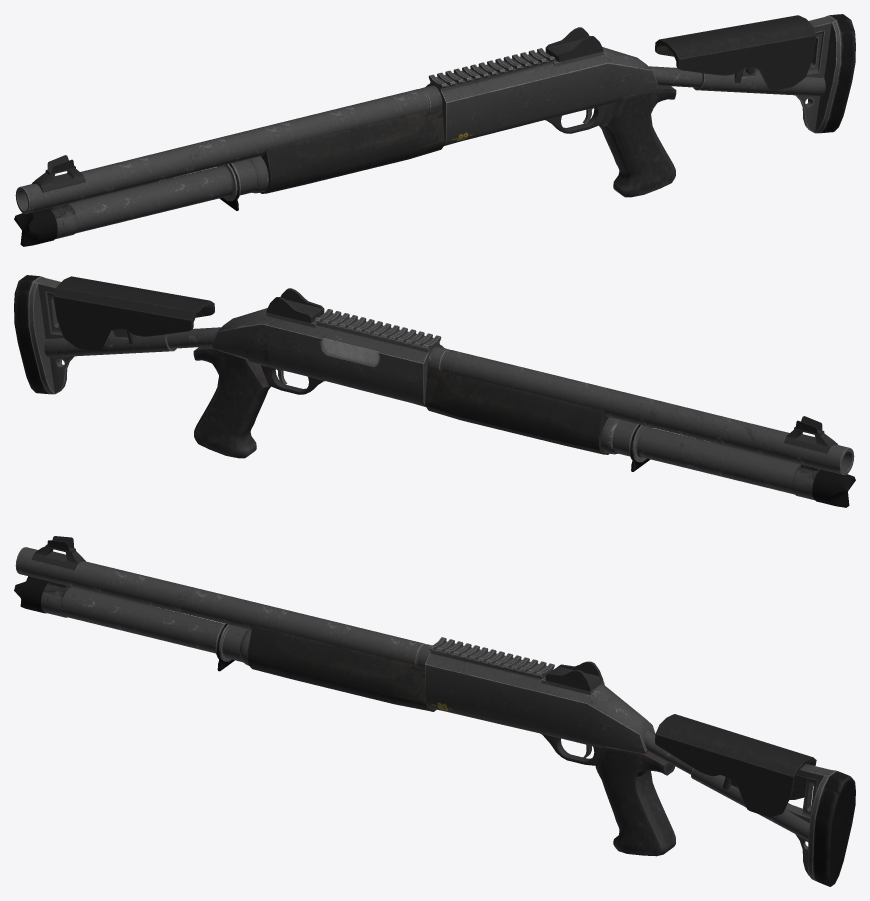
Rendered from shotgun_c.glb.
3 renders of one model, top to bottom at view 1: azimuth 30°, elevation 25°; view 2: azimuth 150°, elevation 25°; view 3: azimuth 330°, elevation 25°, orthographic.
Visible parts, largest first — view 1: Cylinder008, Cylinder001, Cylinder007, Box008, Cylinder002, Box004, Cylinder010, Cylinder010.001, Cylinder006, Box009, Box002, Cylinder014 (+1 smaller); view 2: Cylinder008, Cylinder001, Cylinder007, Box008, Cylinder002, Box004, Cylinder010, Cylinder010.001, Cylinder006, Box009, Box002, Box005 (+1 smaller); view 3: Cylinder008, Cylinder001, Box008, Cylinder007, Box004, Cylinder002, Cylinder010, Cylinder010.001, Box009, Cylinder006, Box002, Cylinder014.
Boxes of the visible parts, <box> form: Cylinder008: <box>425,47,658,145</box>; Cylinder001: <box>15,85,442,213</box>; Cylinder007: <box>260,107,444,193</box>; Box008: <box>655,15,816,90</box>; Cylinder002: <box>69,156,268,233</box>; Box004: <box>599,85,676,197</box>; Cylinder010: <box>795,14,855,133</box>; Cylinder010.001: <box>649,66,825,96</box>; Cylinder006: <box>14,208,57,246</box>; Box009: <box>545,27,603,61</box>; Box002: <box>32,165,85,192</box>; Cylinder014: <box>49,204,77,238</box>; Cylinder008: <box>211,308,444,406</box>; Cylinder001: <box>427,346,854,474</box>; Cylinder007: <box>425,367,609,454</box>; Box008: <box>53,276,214,351</box>; Cylinder002: <box>601,417,800,494</box>; Box004: <box>193,346,270,458</box>; Cylinder010: <box>14,275,74,394</box>; Cylinder010.001: <box>44,327,220,357</box>; Cylinder006: <box>812,469,855,507</box>; Box009: <box>266,288,324,322</box>; Box002: <box>784,426,837,453</box>; Box005: <box>260,365,324,394</box>; Cylinder008: <box>425,637,655,753</box>; Cylinder001: <box>15,547,430,666</box>; Box008: <box>655,714,816,816</box>; Cylinder007: <box>247,625,436,711</box>; Box004: <box>595,746,675,856</box>; Cylinder002: <box>61,587,251,665</box>; Cylinder010: <box>786,764,855,886</box>; Cylinder010.001: <box>644,730,809,840</box>; Box009: <box>545,661,603,691</box>; Cylinder006: <box>14,576,48,613</box>; Box002: <box>31,544,85,570</box>; Cylinder014: <box>41,582,71,617</box>.
Bounding box in the file's own units: 50.55 × 10.04 × 2.71.
Materials: 1 (1 with a texture image).
